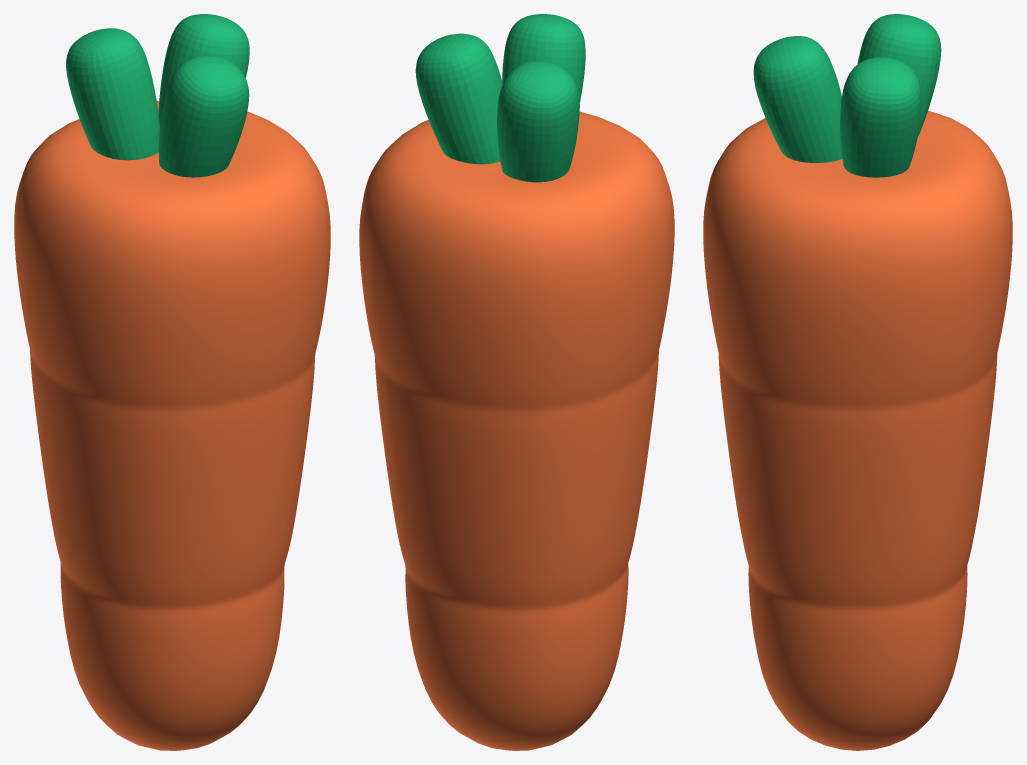
Rendered from carot.glb.
The picture shows the model from 3 angles, left to right: view 1: azimuth 30°, elevation 25°; view 2: azimuth 150°, elevation 25°; view 3: azimuth 270°, elevation 25°; orthographic projection.
Visible parts, largest first — view 1: Cube.001, Cube.004, Cube.002, Cube.003; view 2: Cube.001, Cube.003, Cube.004, Cube.002; view 3: Cube.001, Cube.002, Cube.003, Cube.004.
Part boxes in pixels (x1,y1,x2,y2): Cube.001: [14, 101, 330, 750]; Cube.004: [66, 28, 159, 160]; Cube.002: [158, 55, 249, 177]; Cube.003: [158, 14, 249, 128]; Cube.001: [359, 111, 674, 750]; Cube.003: [415, 33, 502, 164]; Cube.004: [497, 61, 579, 182]; Cube.002: [502, 14, 585, 102]; Cube.001: [703, 110, 1012, 750]; Cube.002: [753, 36, 842, 162]; Cube.003: [840, 57, 922, 177]; Cube.004: [857, 14, 941, 135].
Bounding box in the file's own units: 1.05 × 2.63 × 1.05.
